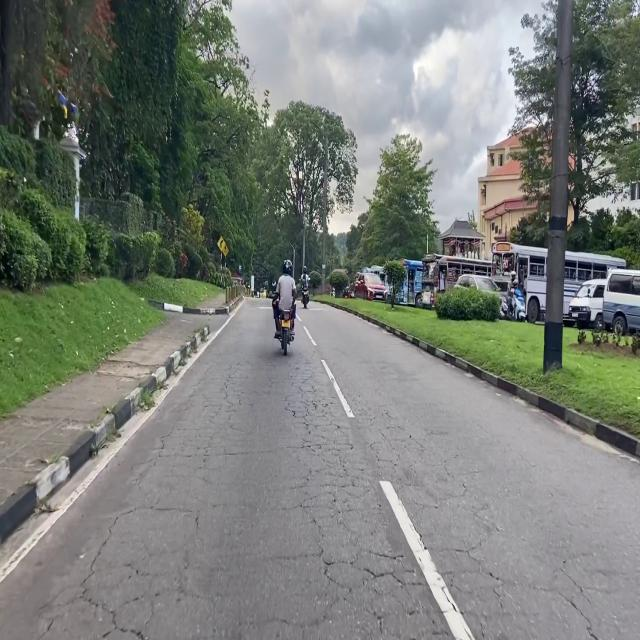bus: (492, 241, 626, 322), (422, 254, 491, 307), (395, 259, 423, 307), (369, 265, 389, 295)
car: (454, 274, 507, 318), (354, 273, 386, 300)
motorcycle: (280, 311, 294, 355), (515, 290, 526, 321), (302, 287, 309, 309)
person: (273, 260, 296, 338), (506, 270, 517, 319), (301, 264, 309, 293)
three wheeler: (342, 286, 350, 298)
van: (603, 270, 640, 335), (568, 279, 606, 331)
